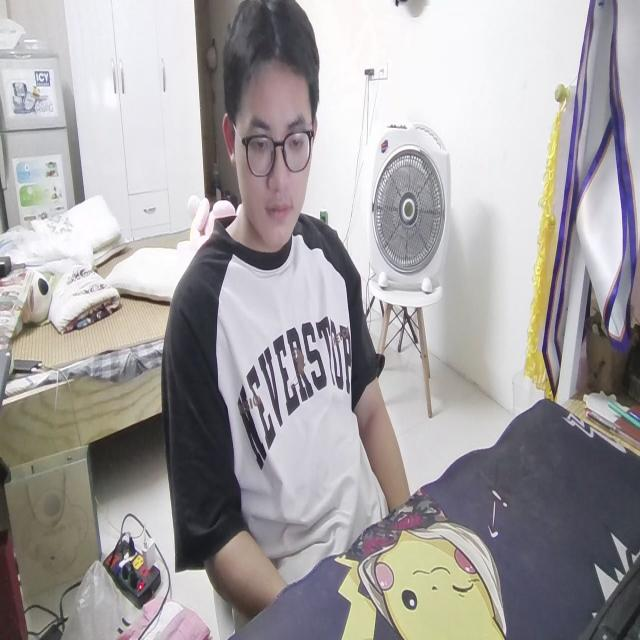student: (162, 0, 416, 632)
